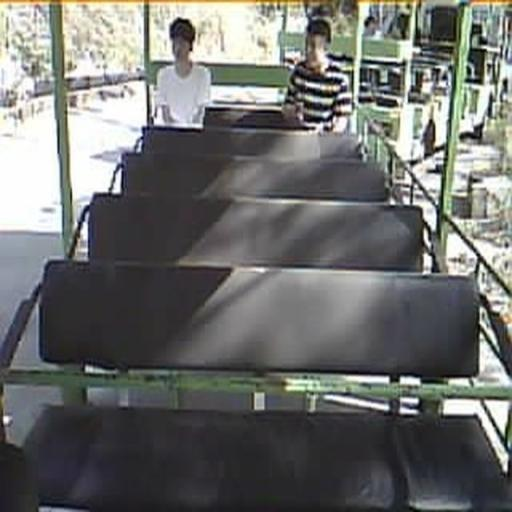persona: (281, 16, 353, 135), (153, 16, 212, 127)
